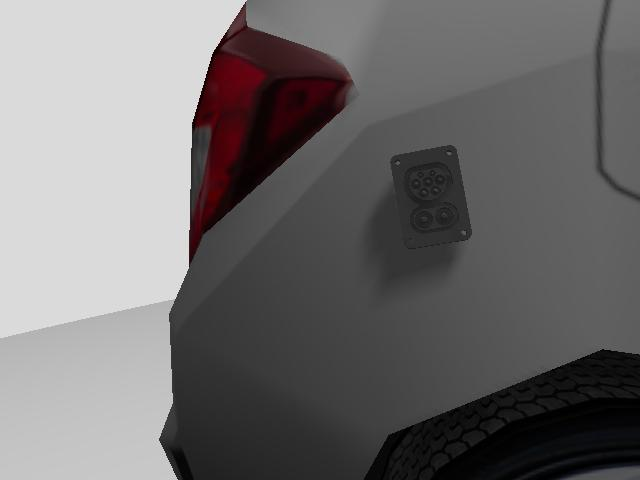EV-socket: (388, 142, 477, 251)
